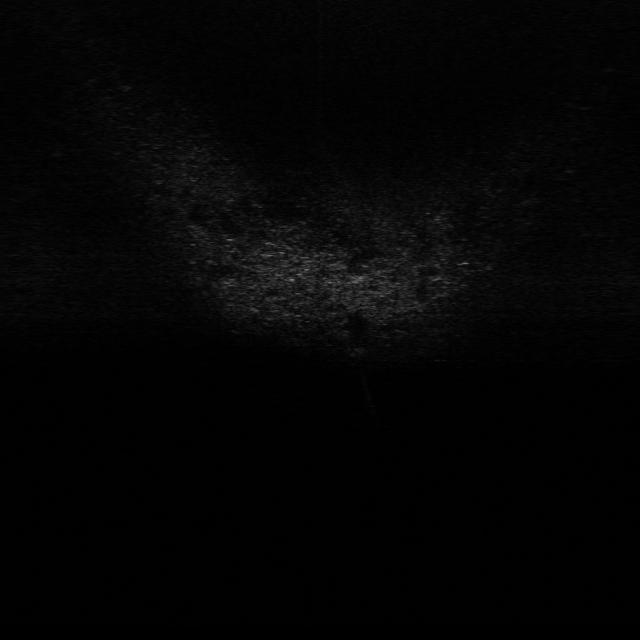cube: (344, 340, 370, 360)
